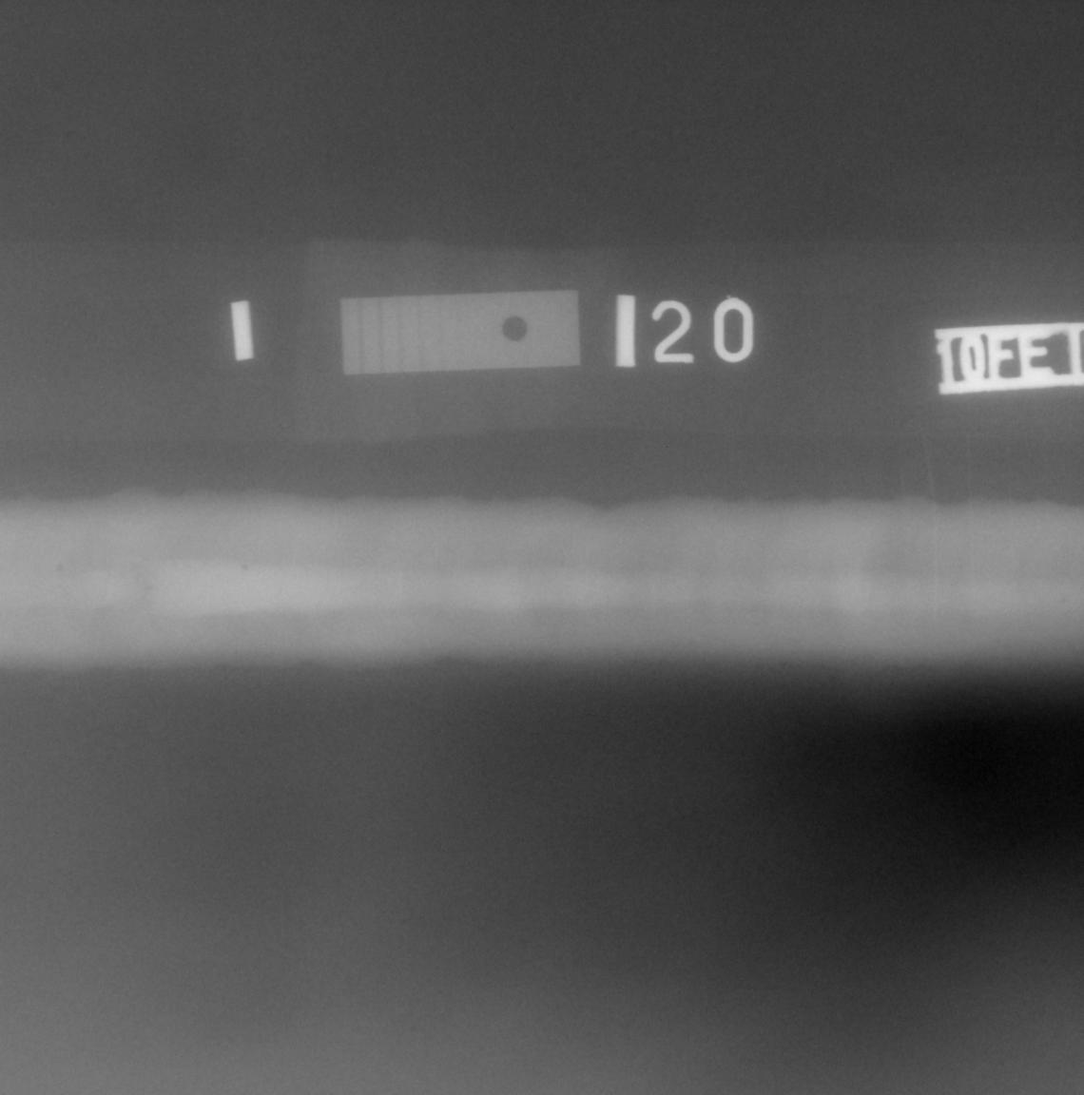Inclusion: (93, 607, 113, 616)
Incomplete Root Penetration: (147, 587, 154, 589)
Pore/Porosity: (55, 564, 62, 571), (240, 565, 246, 570), (1062, 599, 1067, 603)
